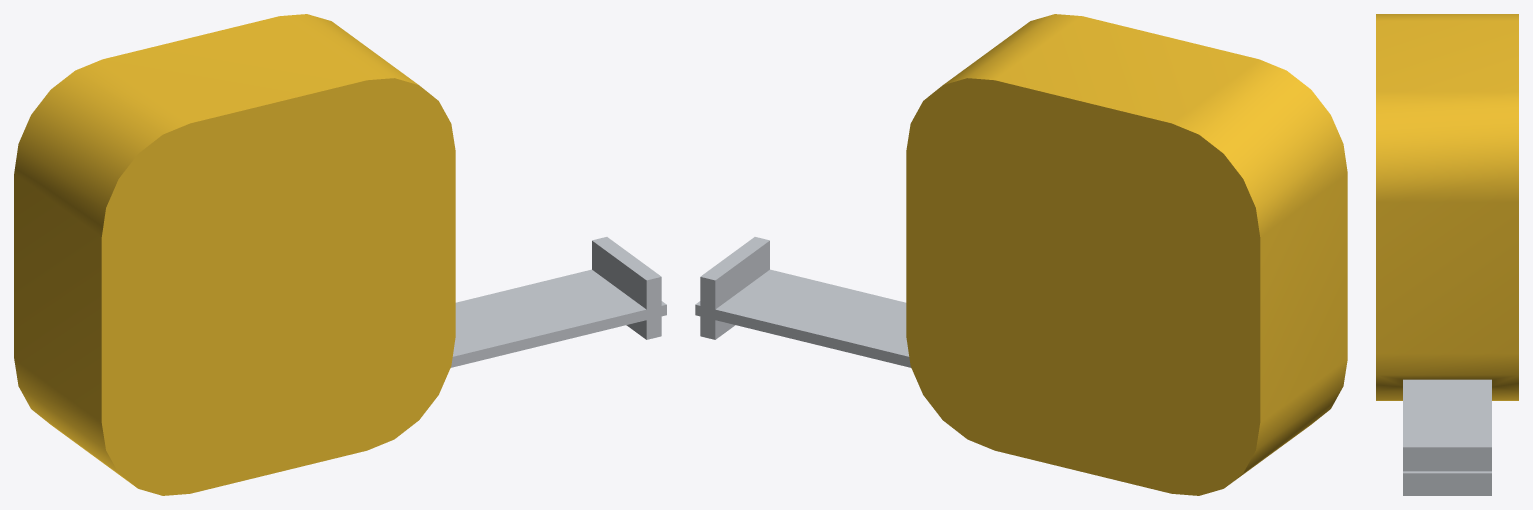
The model's file is tape_measure.glb.
3 views of the same model, side by side, from view 1: azimuth 30°, elevation 25°; view 2: azimuth 150°, elevation 25°; view 3: azimuth 270°, elevation 25° (orthographic). The views are drawn at different scales.
Visible parts, largest first — view 1: tape_measure; view 2: tape_measure; view 3: tape_measure.
Boxes of the visible parts, bbox=[...] form: tape_measure: bbox=[14, 14, 666, 495]; tape_measure: bbox=[695, 14, 1347, 495]; tape_measure: bbox=[1376, 14, 1518, 495].
Bounding box in the file's own units: 0.08 × 0.0487 × 0.0209.
